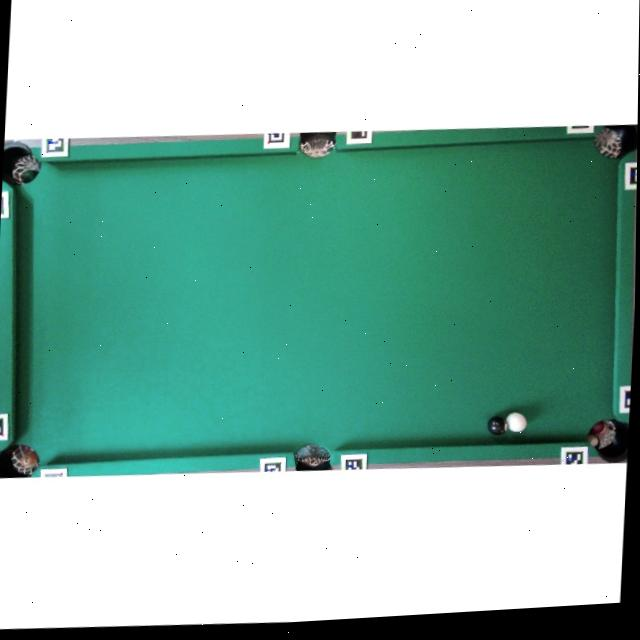cue ball: (504, 410, 527, 433)
other: (486, 415, 507, 437)
